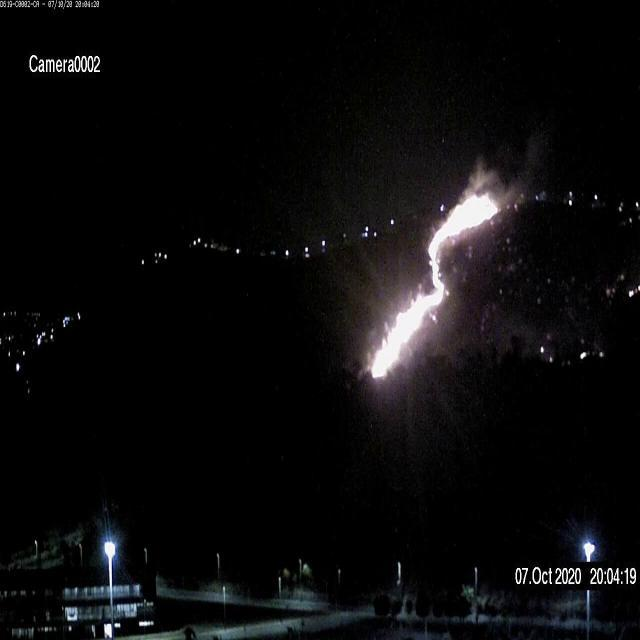Fire: (369, 186, 499, 377)
